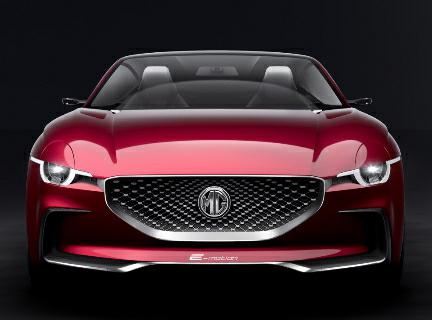名爵-E-motion: (17, 34, 421, 306)
